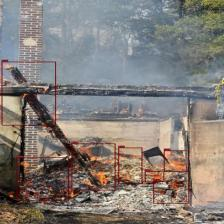fire: (1, 62, 56, 126), (16, 157, 69, 201), (72, 144, 116, 190), (118, 147, 142, 184), (153, 180, 189, 204), (163, 150, 189, 172), (145, 171, 164, 182)
